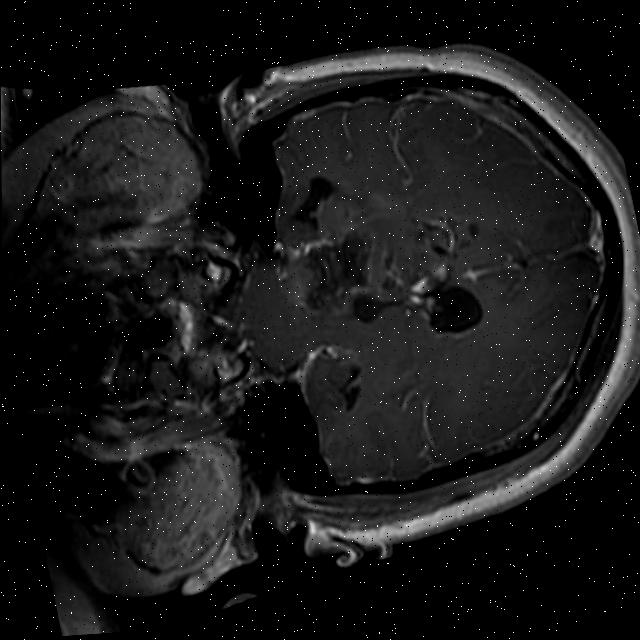Glioma: (283, 163, 466, 316)
